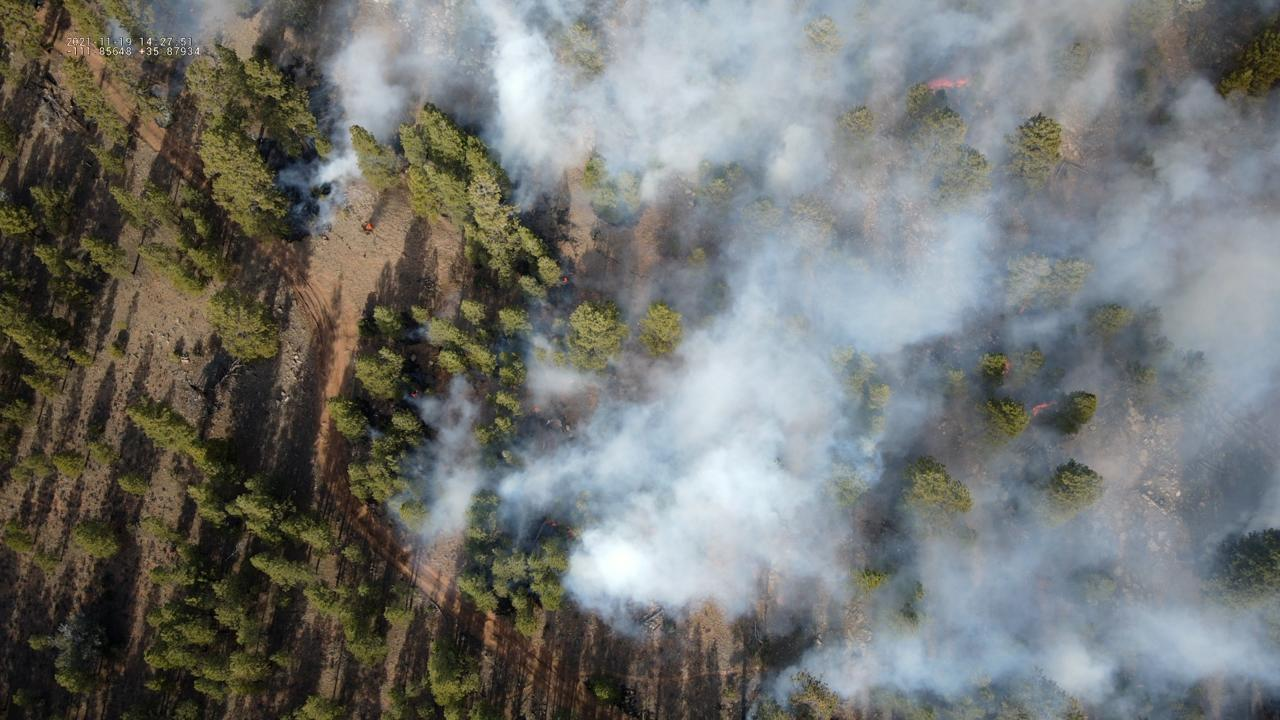fire: (925, 77, 975, 96), (1029, 400, 1057, 417), (543, 518, 563, 528), (1003, 361, 1011, 376), (532, 404, 542, 413), (411, 389, 419, 400), (561, 276, 568, 285), (366, 222, 373, 231), (1019, 308, 1024, 314)
smoke: (274, 0, 1280, 720), (103, 0, 258, 100)
